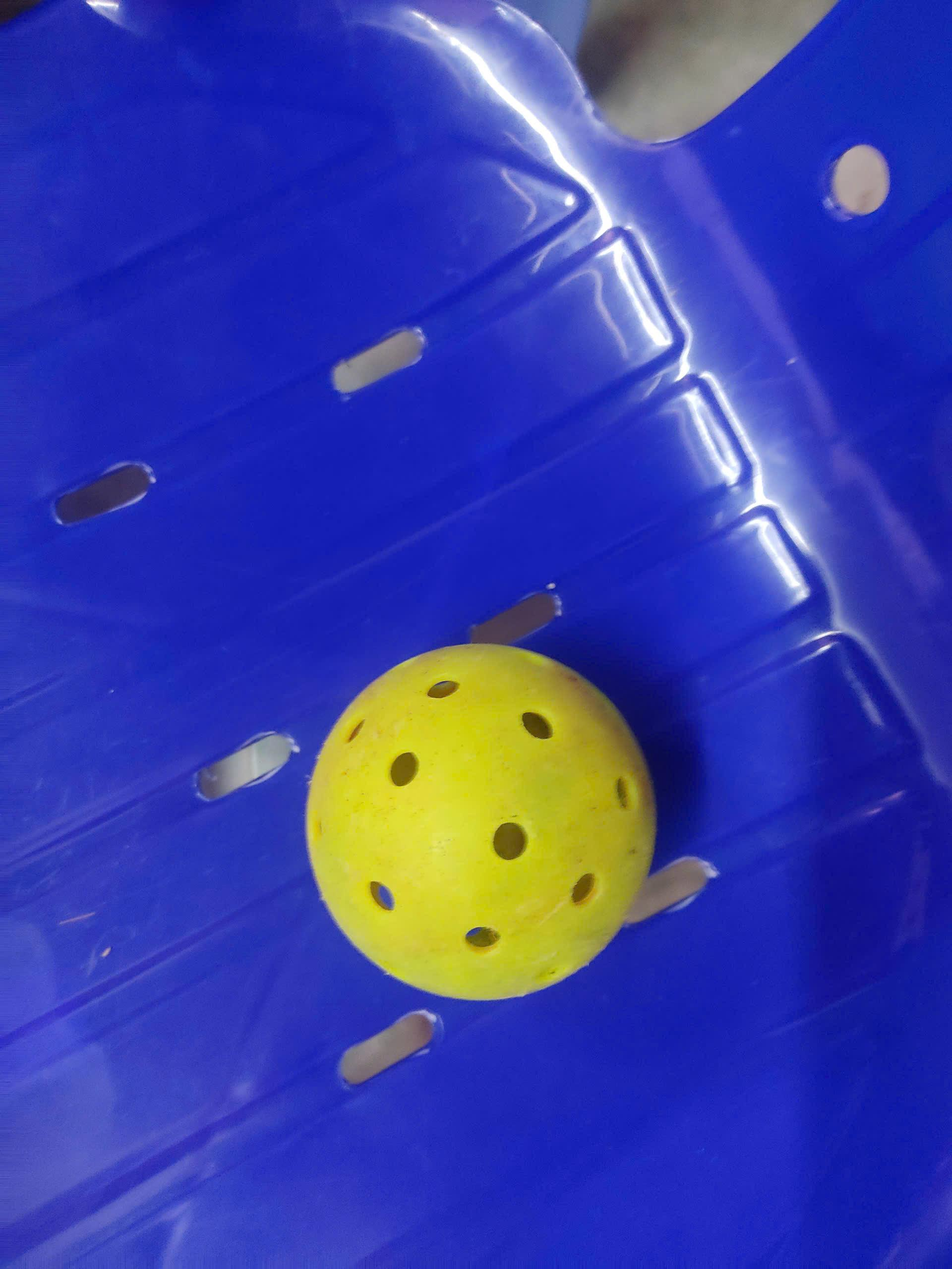ball: (295, 640, 661, 1014)
